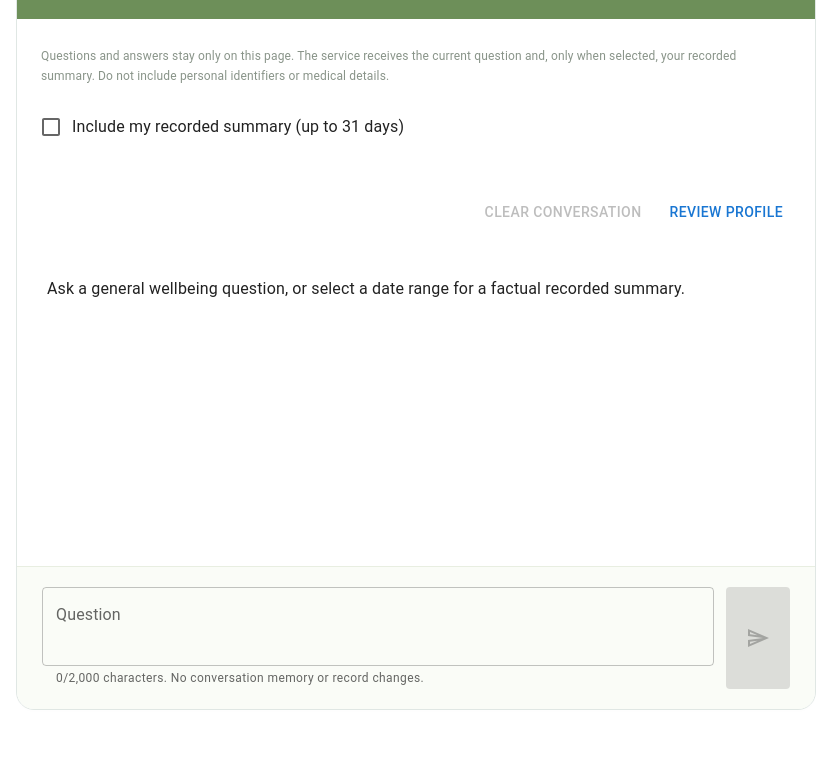
Test: A09 owner/consent-safe stateless Q&A UI with controlled API › cancels waiting, discards its late answer and clears all conversation content explicitly
This screenshot has width=833, height=764.
(page scrolled)
Step 1. Type "Stopped private question" into the text box labelled "Question" → point(378, 627), box [56, 604, 700, 650]
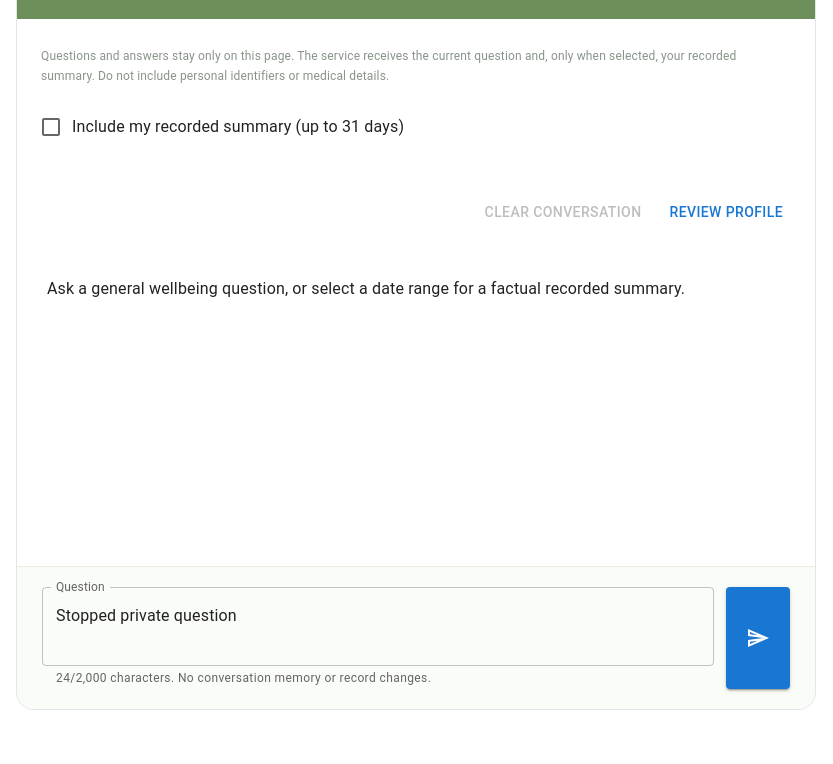
Expected: the button named "Send question" is enabled
Step 2. Click the button named "Send question" → point(758, 638), box [726, 587, 790, 689]
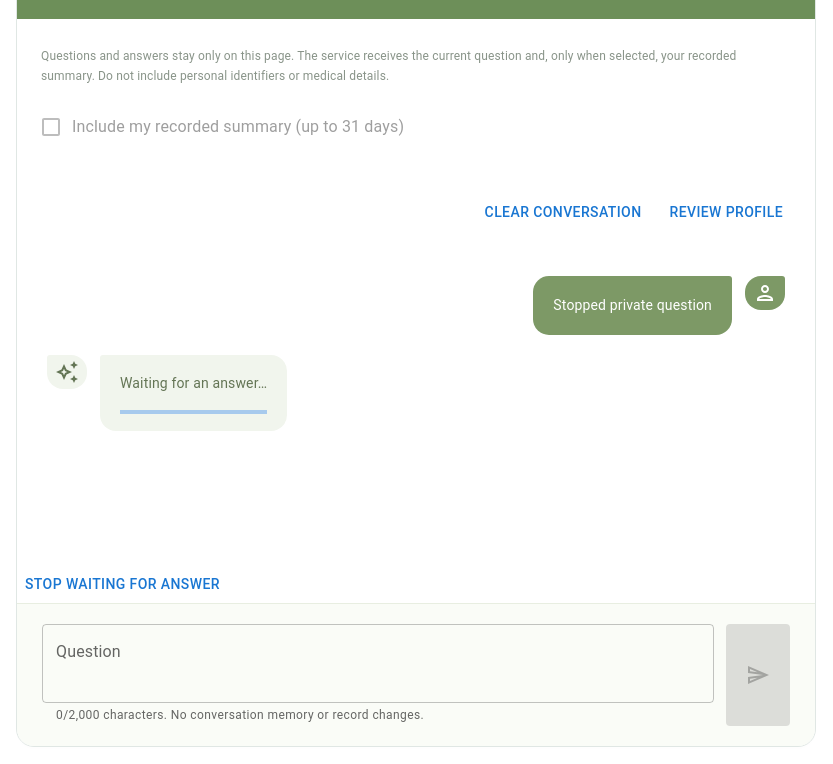
Step 3. Click the button "Stop waiting for answer" → point(122, 585), box [17, 566, 228, 603]
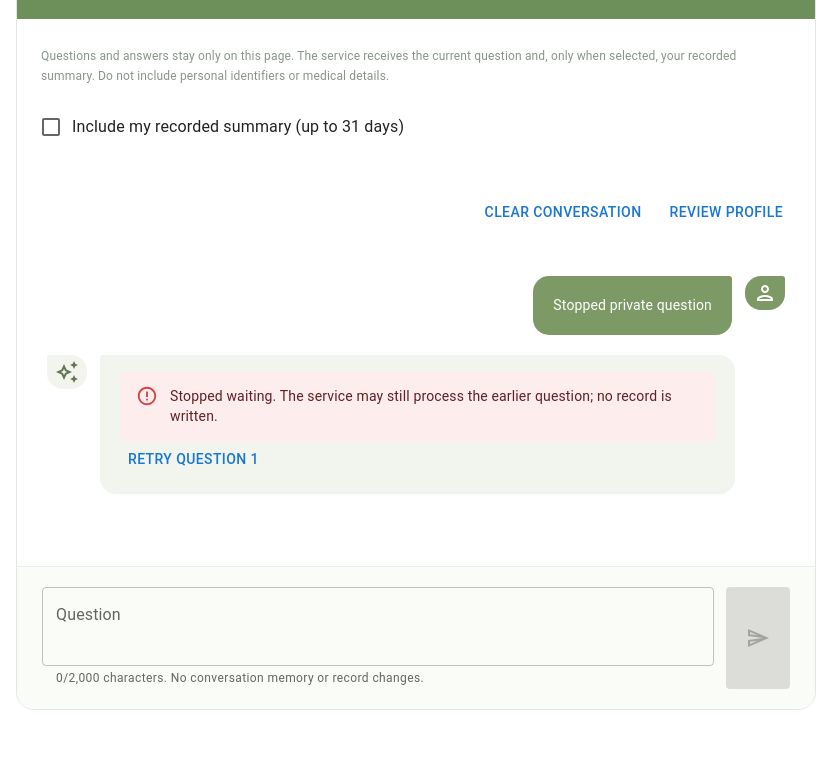
Expected: the text "Stopped waiting." is shown, [170, 388, 676, 424]
Step 4. Click the button "Clear conversation" → point(563, 212), box [477, 194, 650, 230]
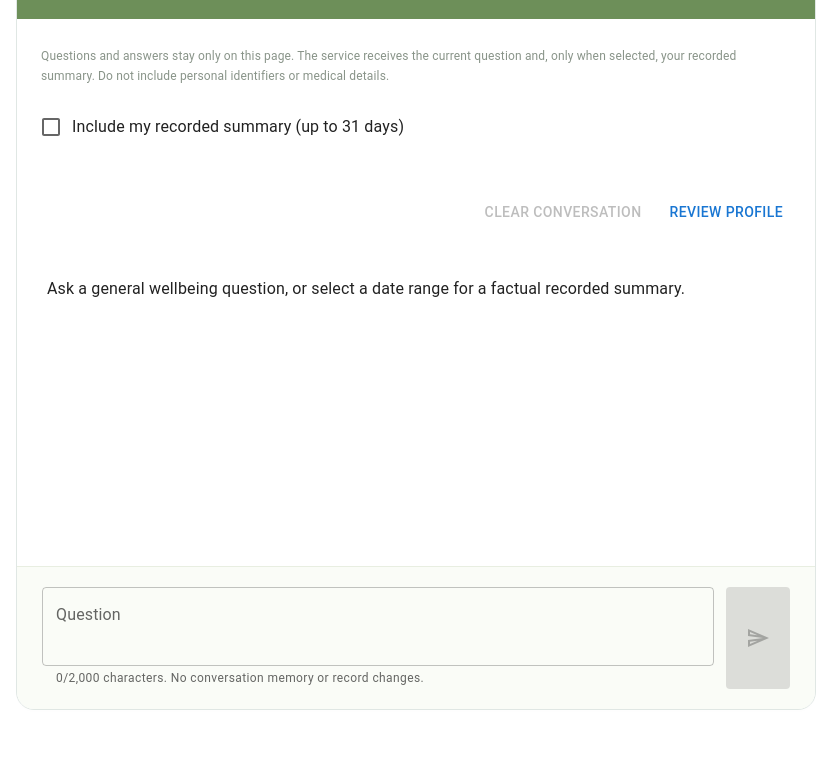
Expected: the text "Stopped private question" is gone
Expected: the button "Retry question 1" is gone
